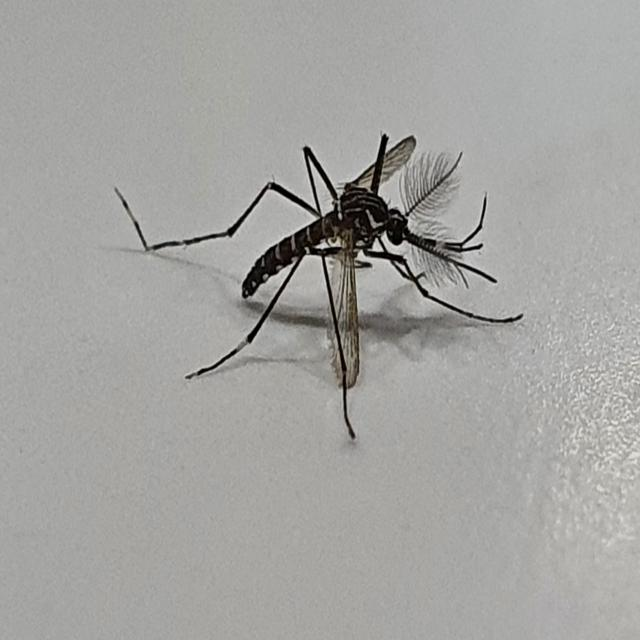aegypti: (120, 104, 512, 458)
